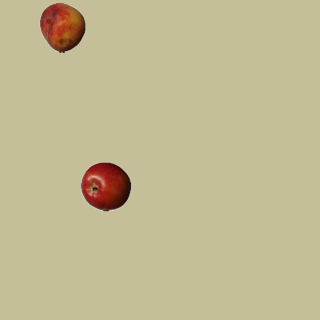Apple Braeburn: (80, 161, 130, 211)
Peach: (37, 2, 87, 52)
